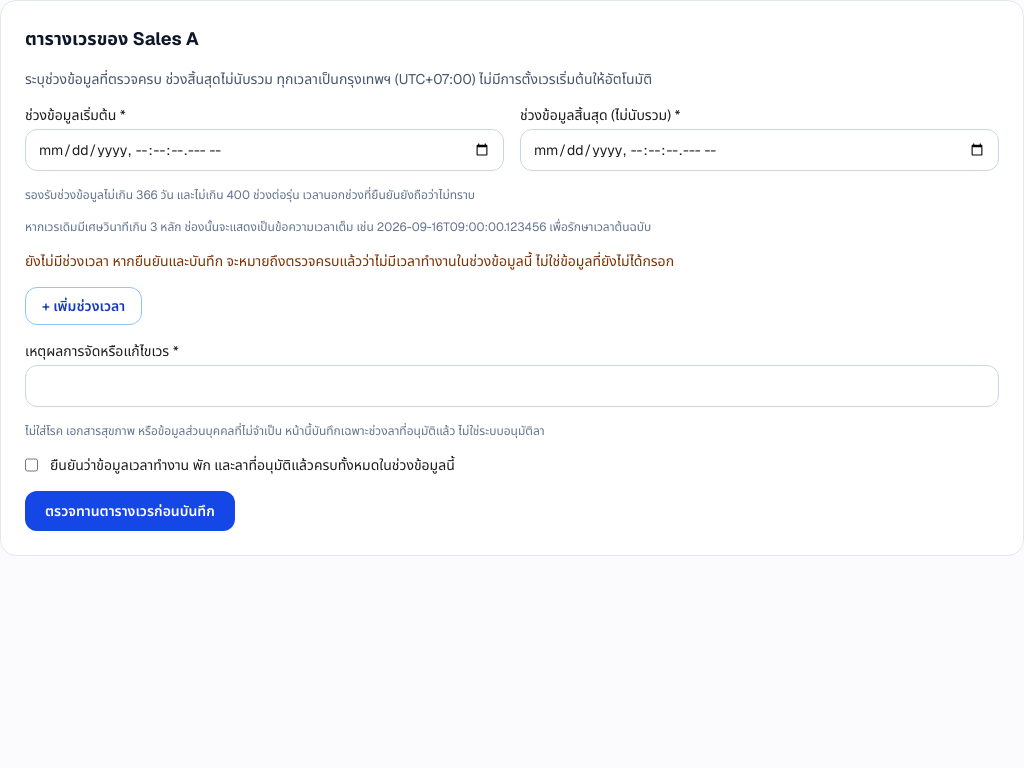
Admin work schedule review and publish › supports an explicit complete known-no-work calendar with a warning
The image size is (1024, 768).
Type "2026-09-16T00:00" into the field labelled "ช่วงข้อมูลเริ่มต้น *" at (264, 150), box top-left (25, 129), bottom-right (504, 171)
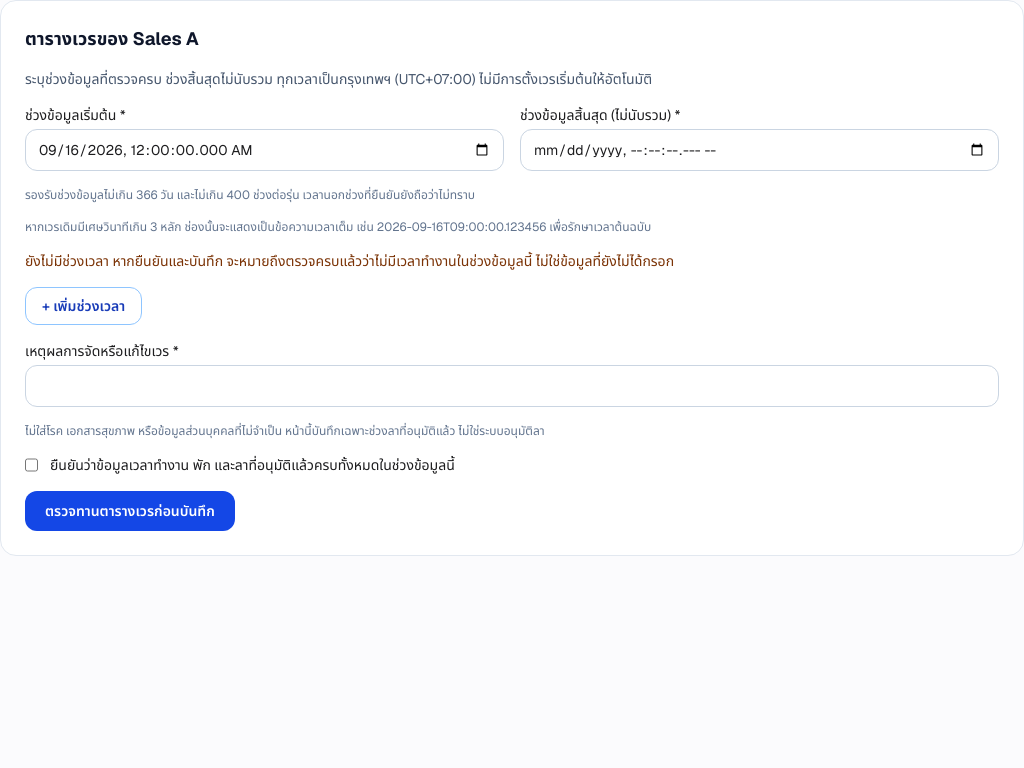
Type "2026-09-17T00:00" into the field labelled "ช่วงข้อมูลสิ้นสุด (ไม่นับรวม) *" at (760, 150), box top-left (520, 129), bottom-right (999, 171)
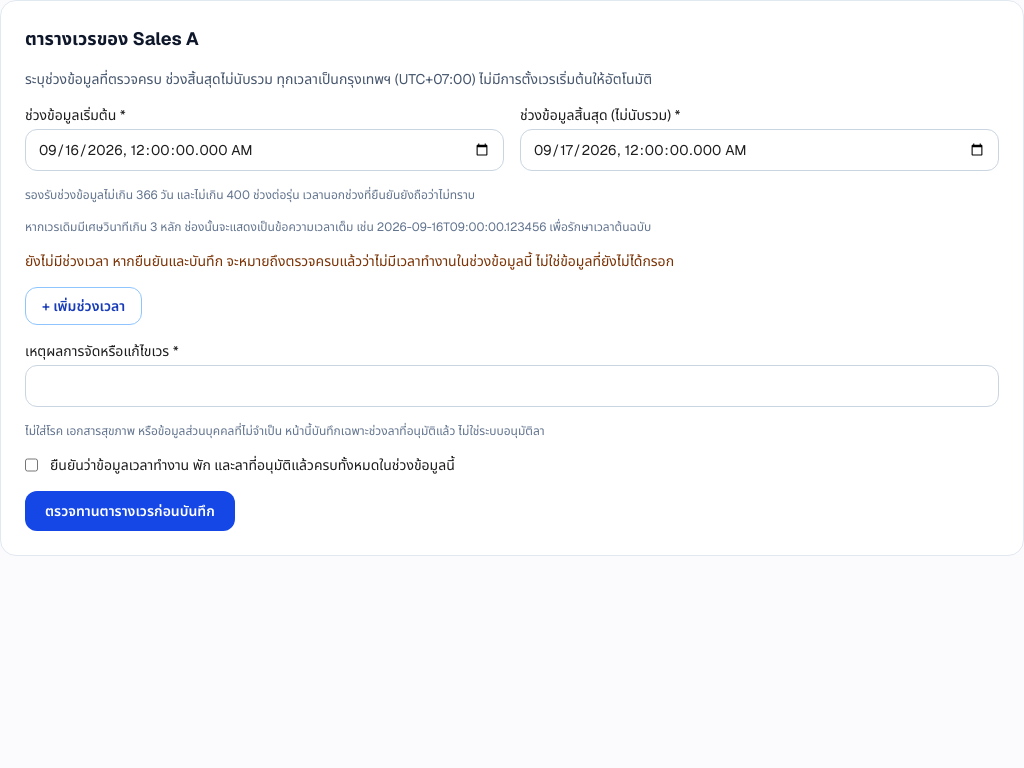
Type "จัดเวรเดือนนี้" into the field labelled "เหตุผลการจัดหรือแก้ไขเวร *" at (512, 386), box top-left (25, 365), bottom-right (999, 407)
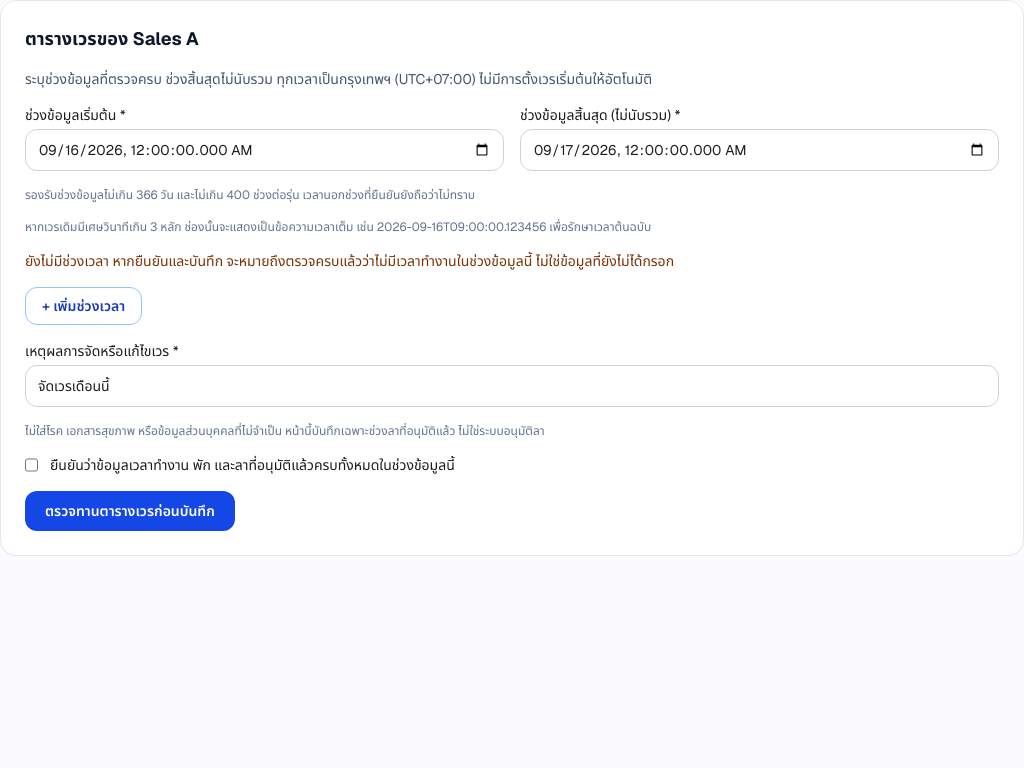
Click the checkbox at (32, 465), box top-left (25, 455), bottom-right (38, 475)
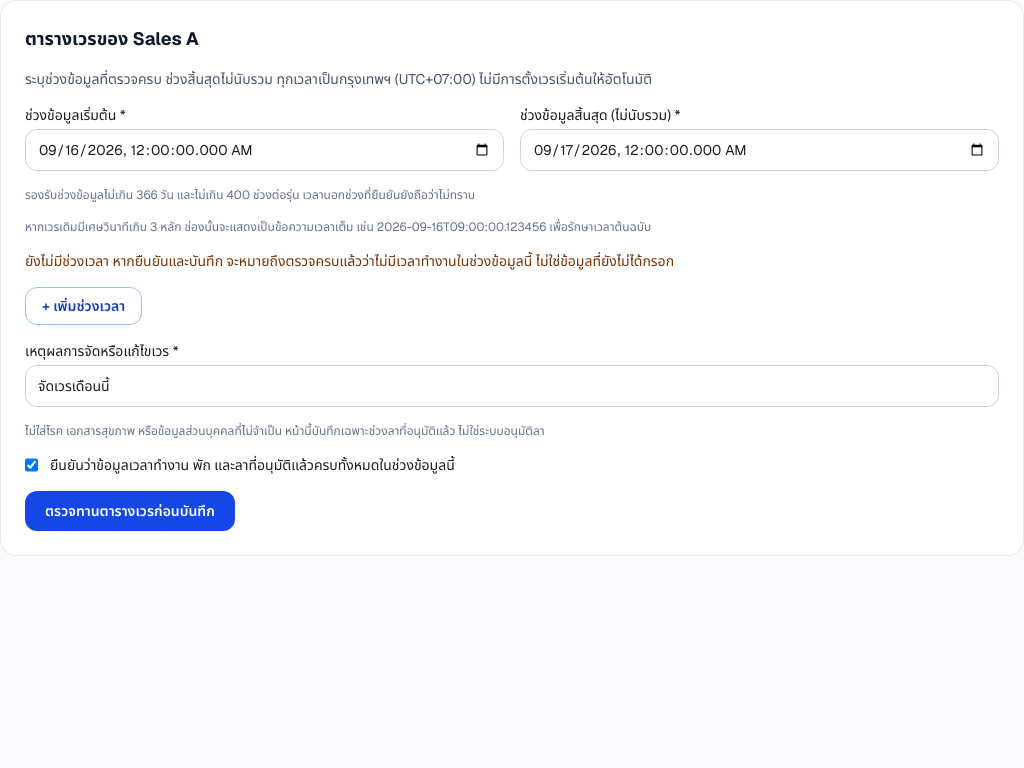
Submit the form named "จัดเวร Sales", box top-left (25, 69), bottom-right (999, 531)
(page scrolled)
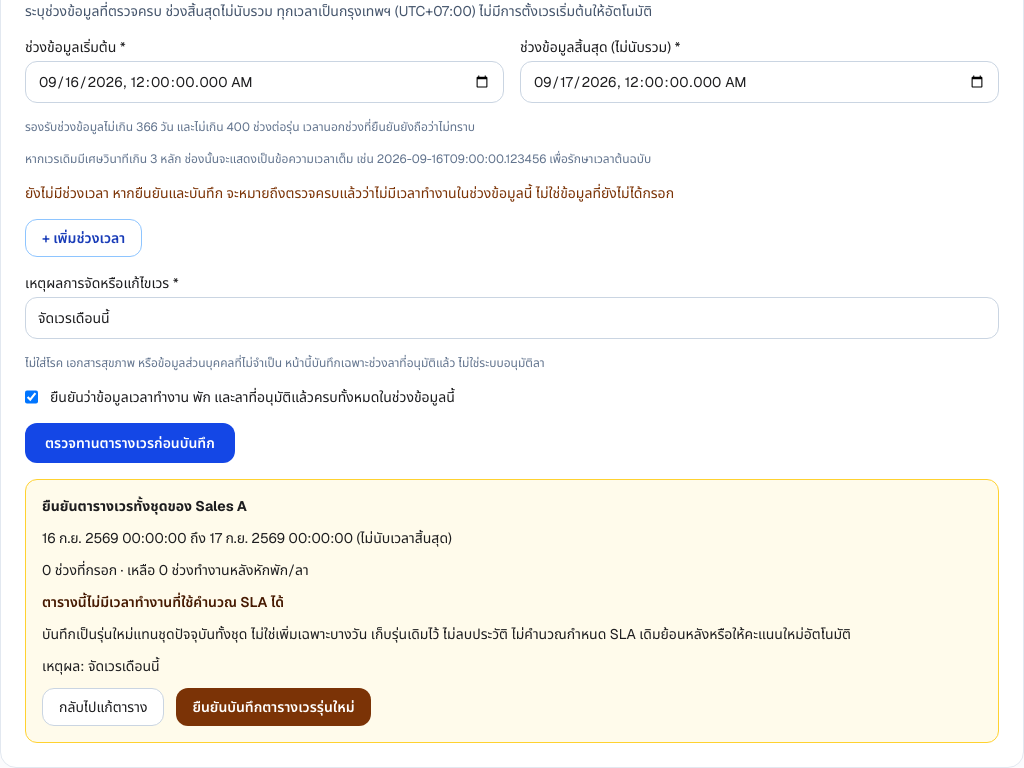
Check: the element named "ตรวจทานตารางเวร" shows "ไม่มีเวลาทำงาน", box top-left (42, 593), bottom-right (284, 611)
